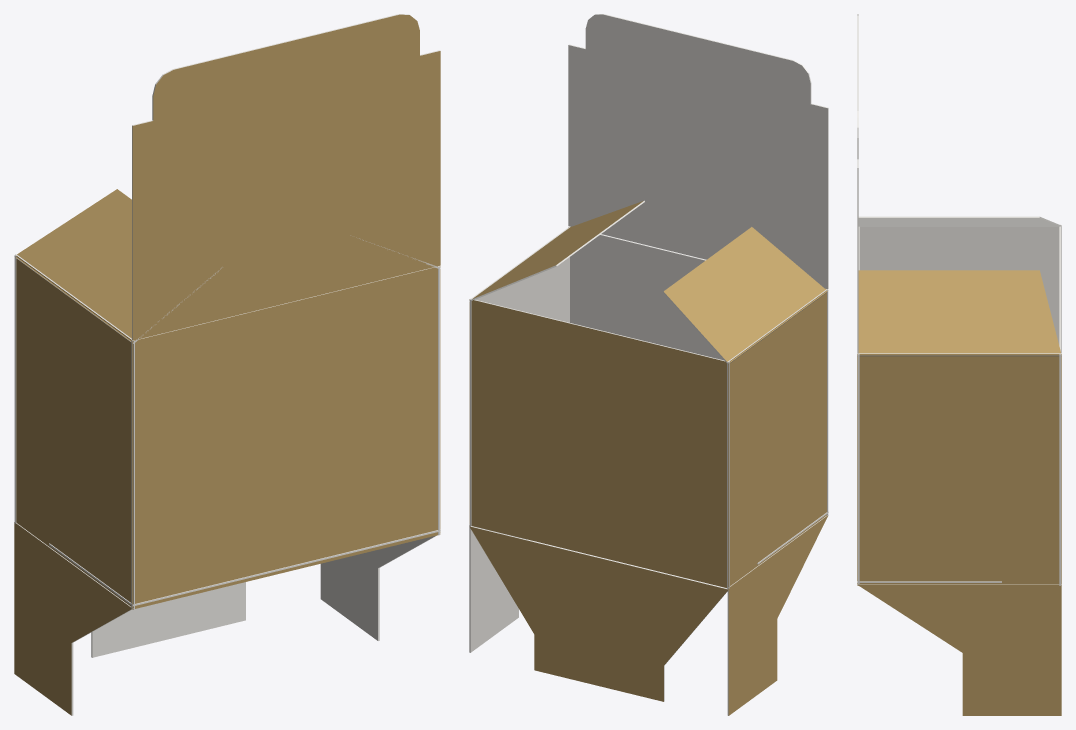
The picture shows the model from 3 angles, left to right: view 1: azimuth 30°, elevation 25°; view 2: azimuth 150°, elevation 25°; view 3: azimuth 270°, elevation 25°; orthographic projection. The views are drawn at different scales.
Parts seen in each view (by area): view 1: Packive_Box_fefco0215; view 2: Packive_Box_fefco0215; view 3: Packive_Box_fefco0215.
Boxes of the visible parts, x1,y1,x2,y2 form: Packive_Box_fefco0215: (14,14,440,715); Packive_Box_fefco0215: (469,14,828,715); Packive_Box_fefco0215: (857,14,1061,715).
Bounding box in the file's own units: 0.3 × 0.636 × 0.2.
Materials: 26 (13 with a texture image).
